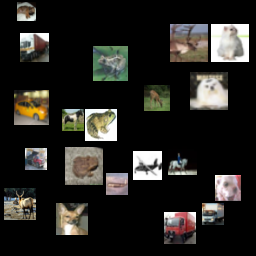airplane: (198, 96, 230, 128)
bird: (89, 44, 124, 79), (86, 10, 108, 32), (4, 147, 23, 166)
cat: (97, 183, 126, 212), (186, 34, 215, 63), (201, 7, 223, 29)
deer: (100, 124, 129, 153)
dog: (182, 215, 214, 247)
frog: (59, 147, 91, 179), (131, 25, 153, 47), (162, 132, 178, 148)
ship: (142, 158, 180, 196), (25, 93, 57, 125), (37, 185, 56, 204)
